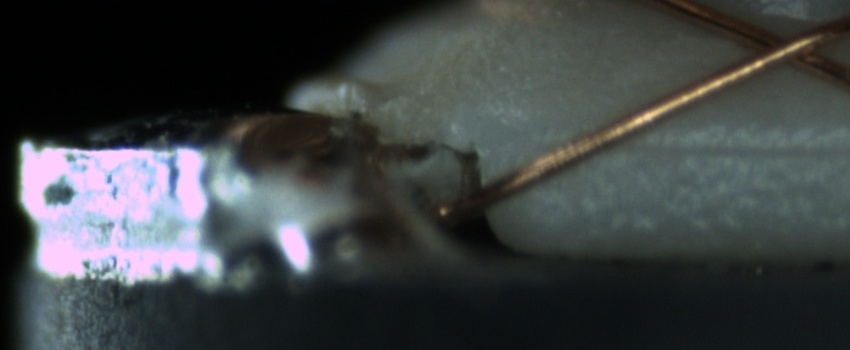CL: (715, 14, 844, 80)
DL: (568, 114, 845, 180)
